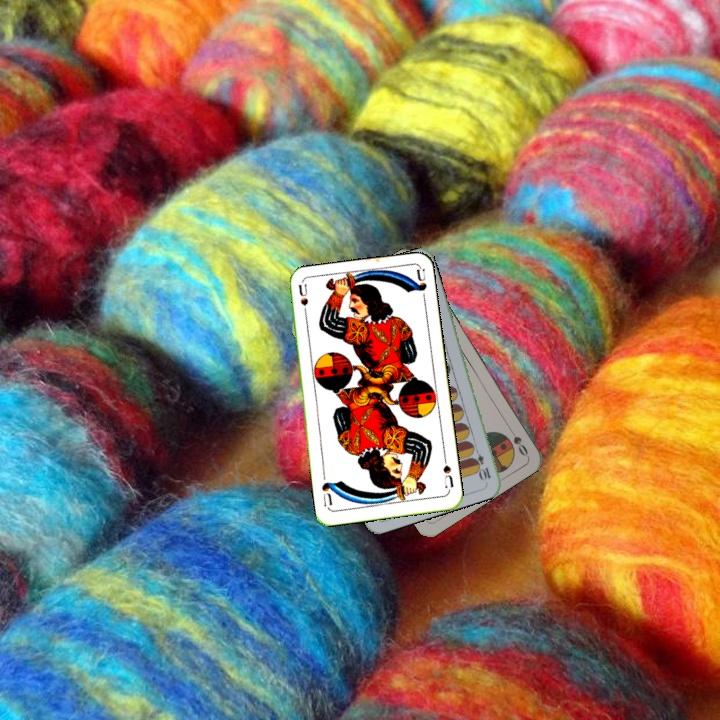E10: (470, 443, 493, 483)
SO: (504, 422, 531, 459)
SU: (439, 453, 456, 494), (294, 281, 310, 322)
